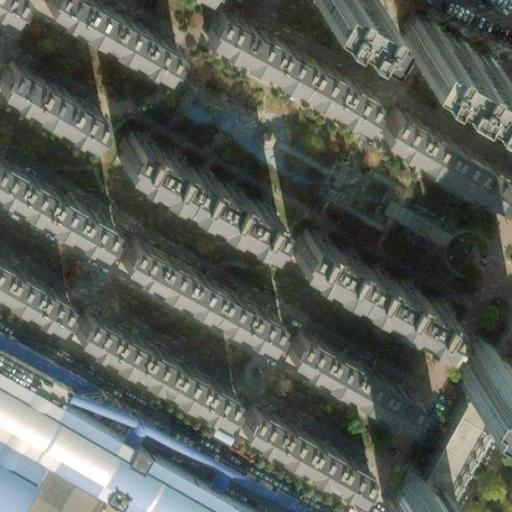building: (200, 10, 375, 130), (295, 242, 461, 356), (116, 143, 281, 255), (71, 313, 235, 424), (117, 231, 280, 340), (237, 416, 371, 509), (288, 329, 418, 422), (378, 106, 508, 199), (403, 22, 503, 99), (0, 349, 96, 417), (0, 259, 66, 323), (458, 342, 512, 410), (384, 475, 450, 512), (492, 313, 512, 360)
